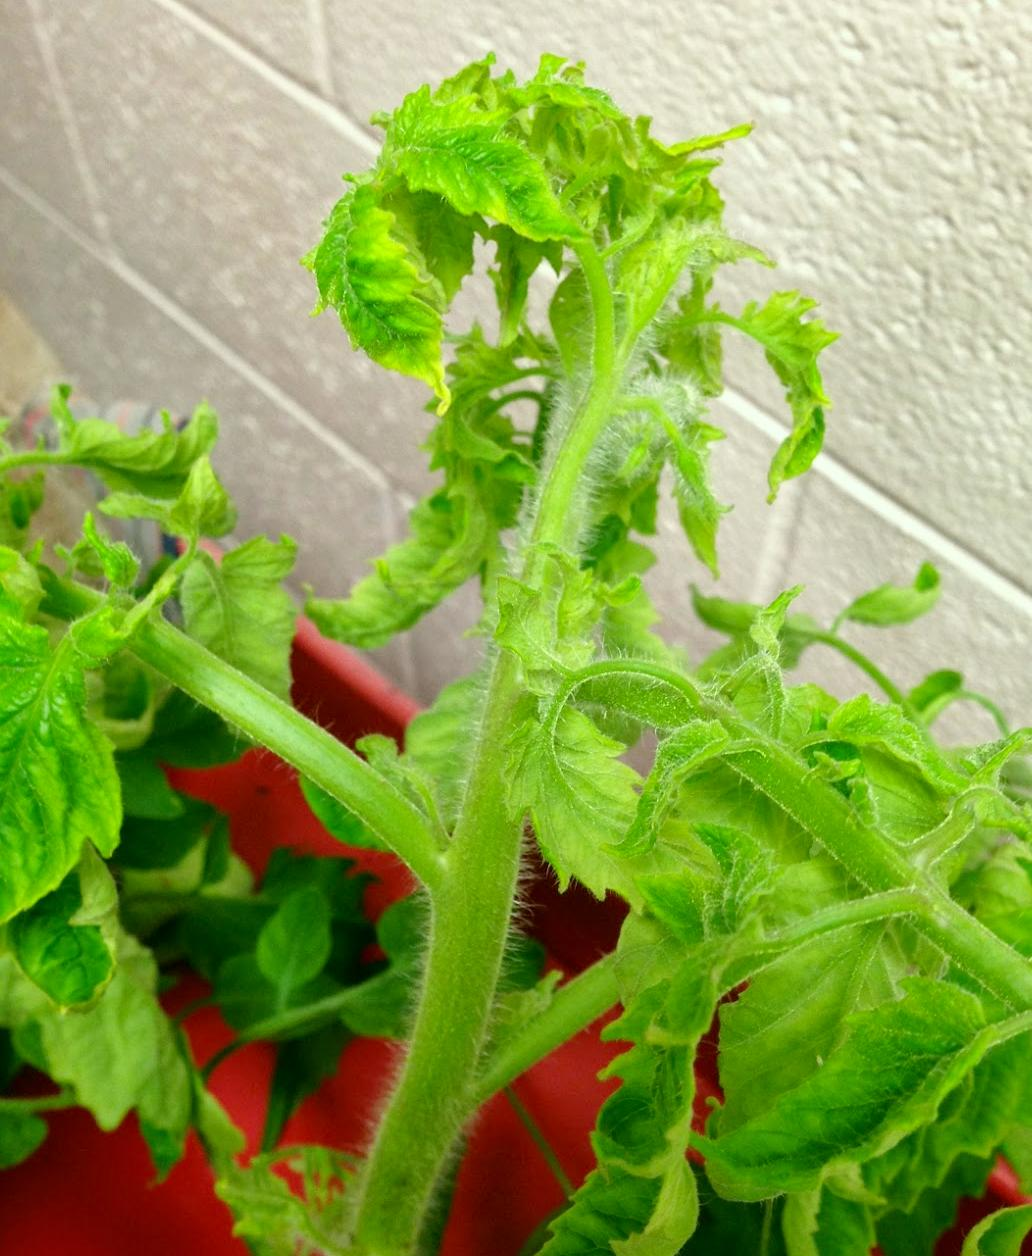Tomato leaf yellow virus: (712, 968, 1028, 1224), (483, 938, 730, 1256), (0, 583, 149, 951), (296, 180, 478, 449), (508, 679, 702, 909), (394, 62, 601, 275)
